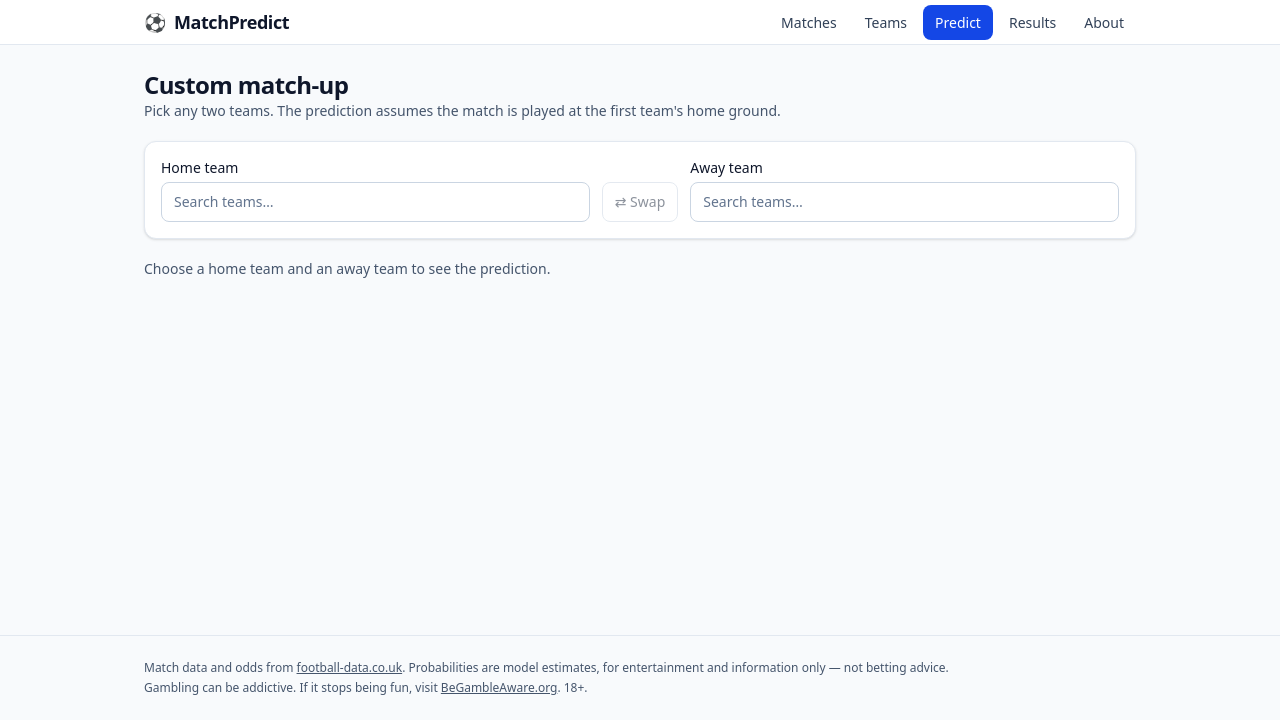
Test: PredictPage › warns when the same team is chosen twice
Type "inter" into the dropdown labelled "Home team".
click(375, 202); type("inter")  # box [161,182,590,222]
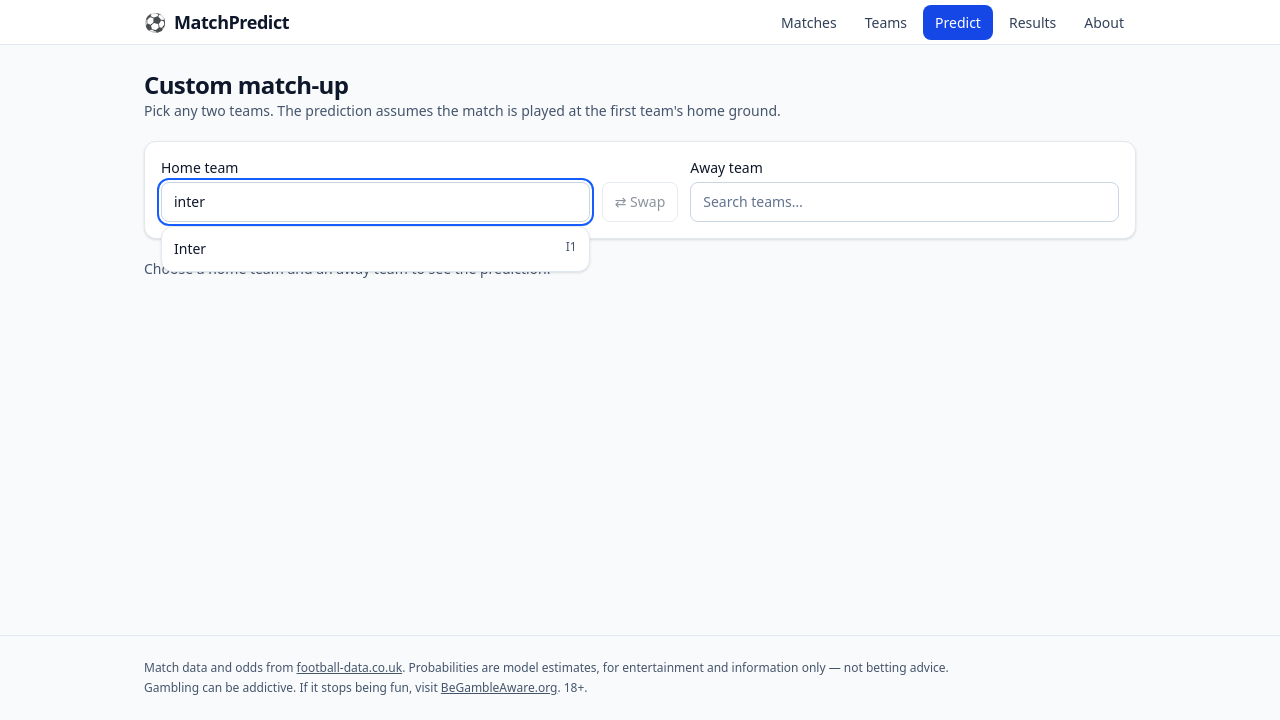
Click the option "Inter I1".
click(190, 248)  # box [174,238,577,258]
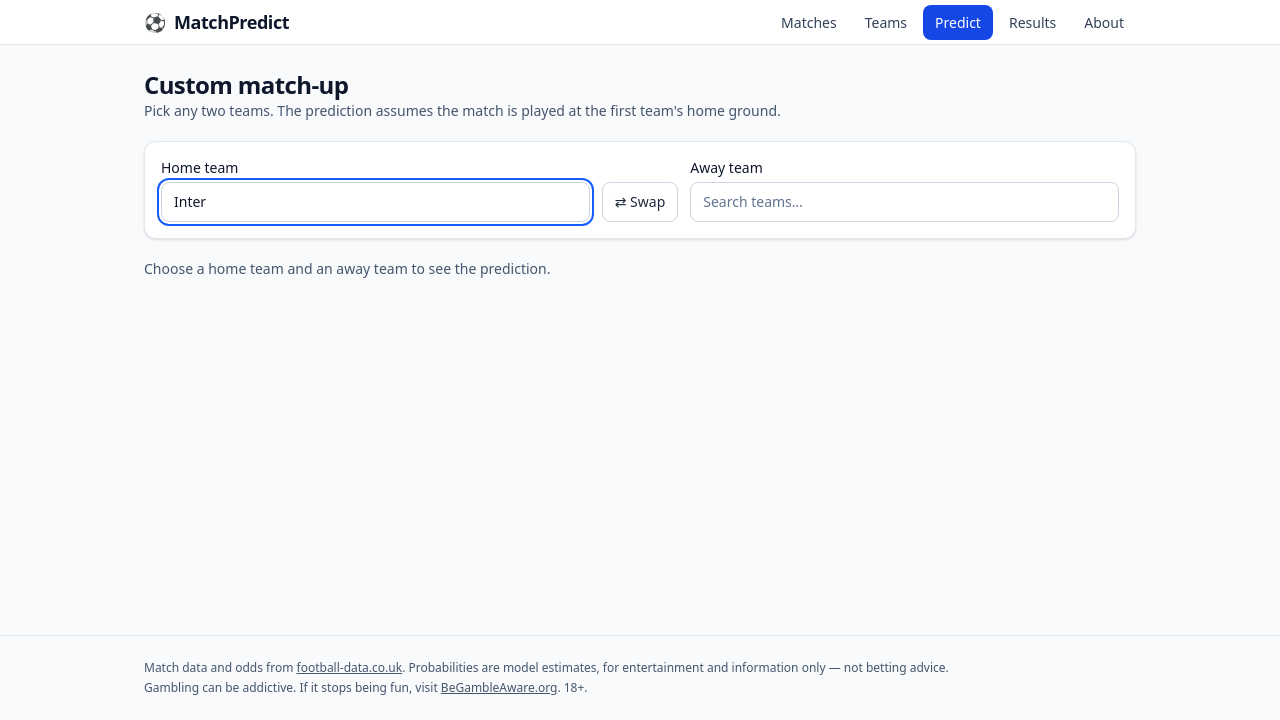
Type "inter" into the dropdown labelled "Away team".
click(905, 202); type("inter")  # box [690,182,1119,222]
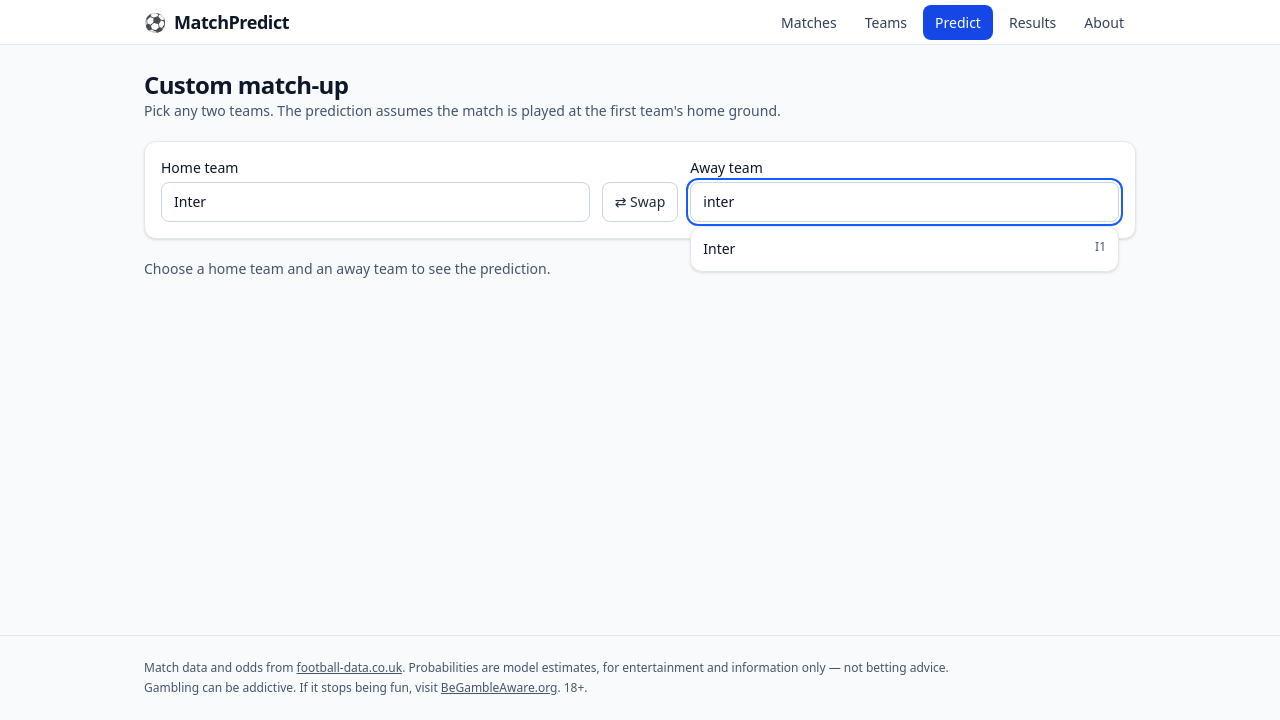
Click the option "Inter I1".
click(719, 248)  # box [703,238,1106,258]
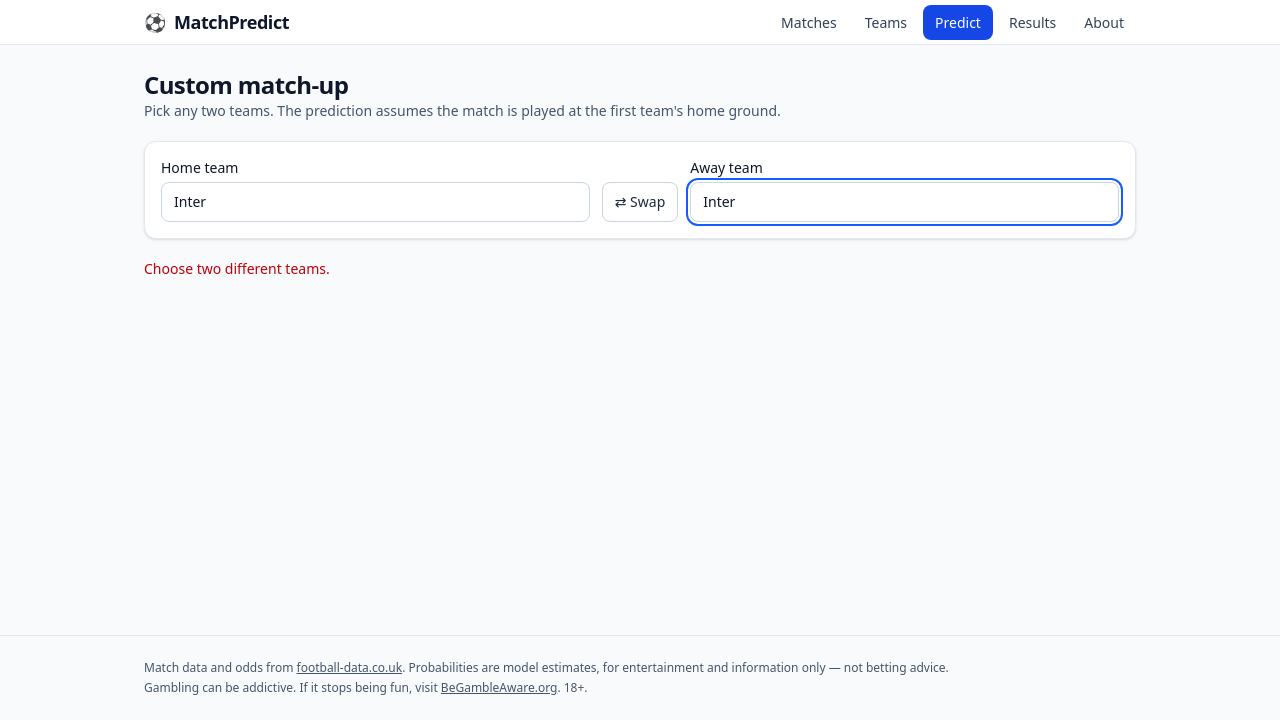
Now the message reads "Choose two different teams.", box [144,259,330,278]
